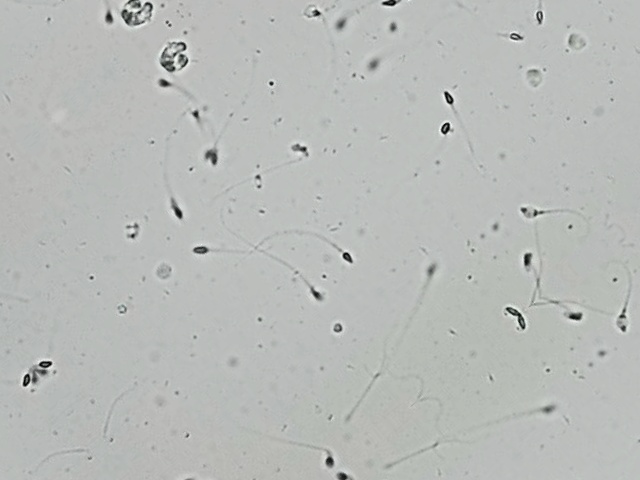sperm: (170, 139, 294, 261), (68, 47, 184, 163), (107, 0, 233, 106), (323, 217, 415, 303), (179, 88, 269, 172), (478, 135, 556, 216), (388, 46, 464, 128), (224, 372, 302, 444), (222, 197, 290, 273), (160, 192, 218, 250), (484, 223, 534, 274), (265, 0, 325, 37), (132, 44, 176, 90), (402, 100, 442, 138), (162, 85, 198, 123), (477, 3, 509, 35), (0, 220, 14, 292), (121, 454, 171, 472), (307, 0, 355, 16), (18, 339, 42, 363), (354, 41, 376, 61), (493, 290, 512, 310), (358, 0, 398, 8), (383, 0, 445, 5), (24, 352, 40, 370), (182, 478, 206, 480)
